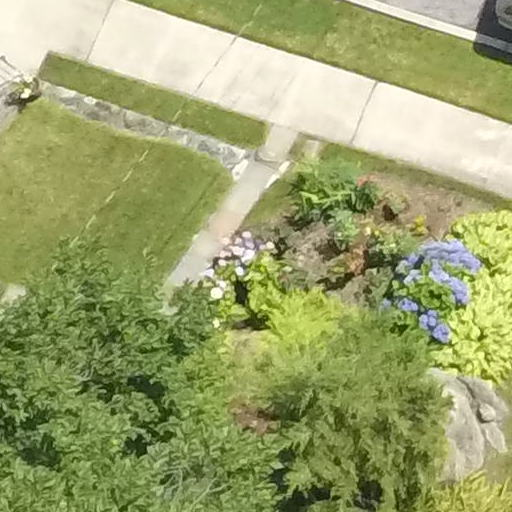pot: (6, 61, 57, 105)
